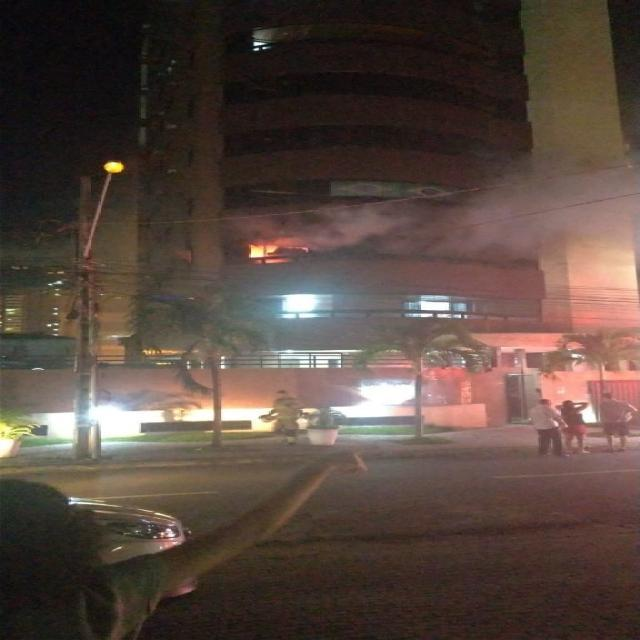Fire: (244, 242, 286, 264)
Smoke: (221, 142, 640, 262)
